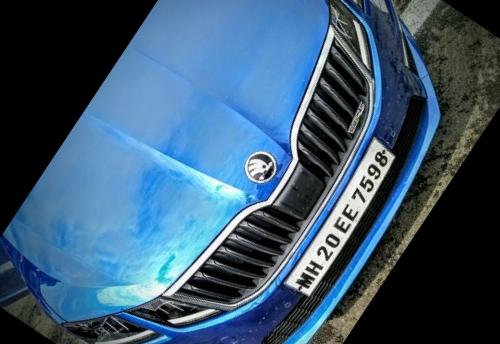plate: (278, 130, 414, 309)
